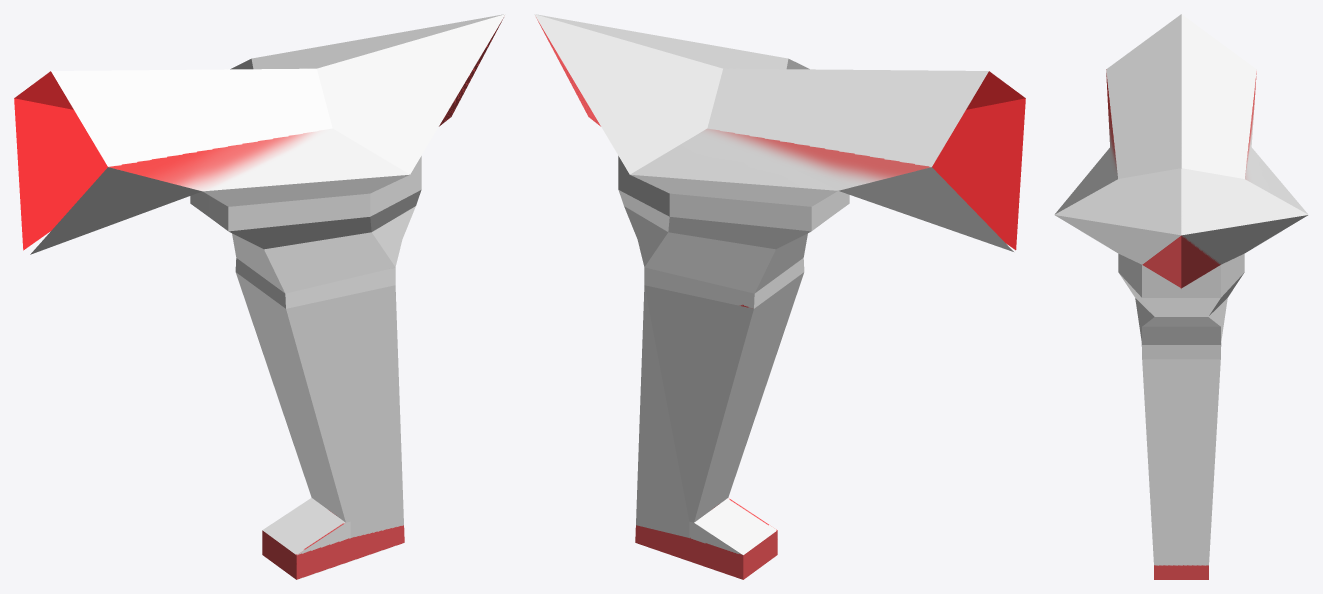
Rendered from lança chamas.fbx.
3 renders of one model, left to right at view 1: azimuth 30°, elevation 25°; view 2: azimuth 150°, elevation 25°; view 3: azimuth 270°, elevation 25°, orthographic. The views are drawn at different scales.
Visible parts, largest first — view 1: Cone; view 2: Cone; view 3: Cone.
Boxes of the visible parts, <box> form: Cone: <box>14,14,505,579</box>; Cone: <box>534,14,1025,579</box>; Cone: <box>1054,14,1308,579</box>.
Bounding box in the file's own units: 350 × 384 × 200.
Materials: 1 (1 with a texture image).
